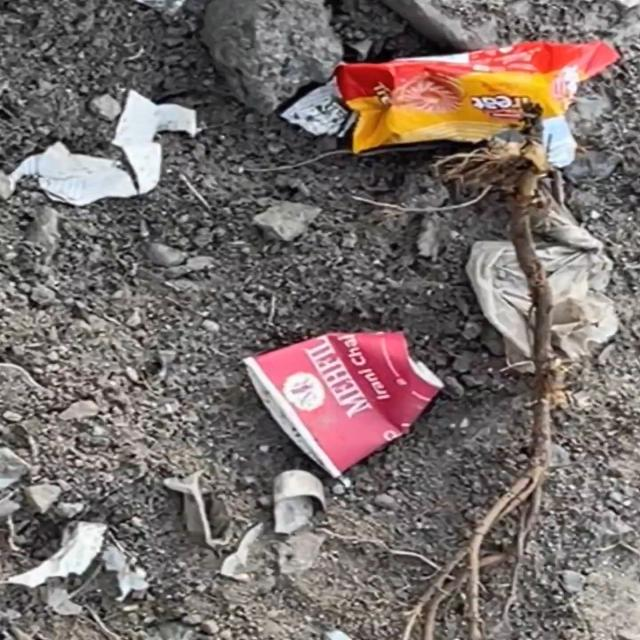paper: (223, 331, 458, 468), (14, 92, 209, 220), (463, 217, 640, 358)
plastic: (323, 37, 621, 167)
